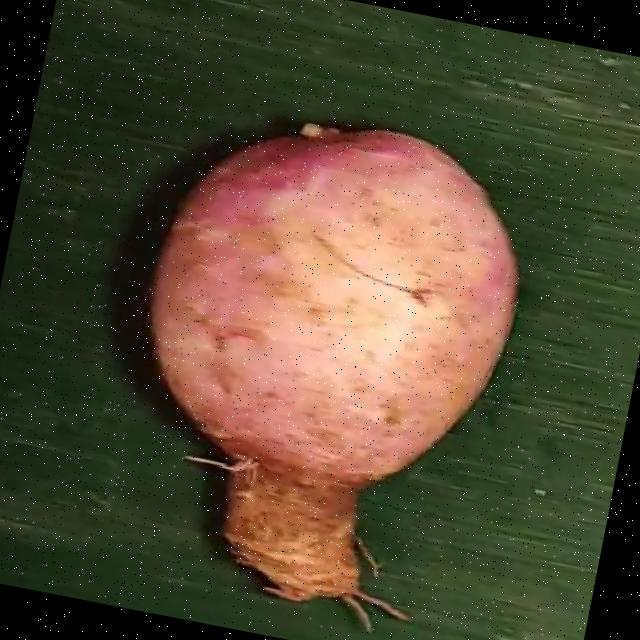Sweet Potato: (151, 123, 522, 598)
